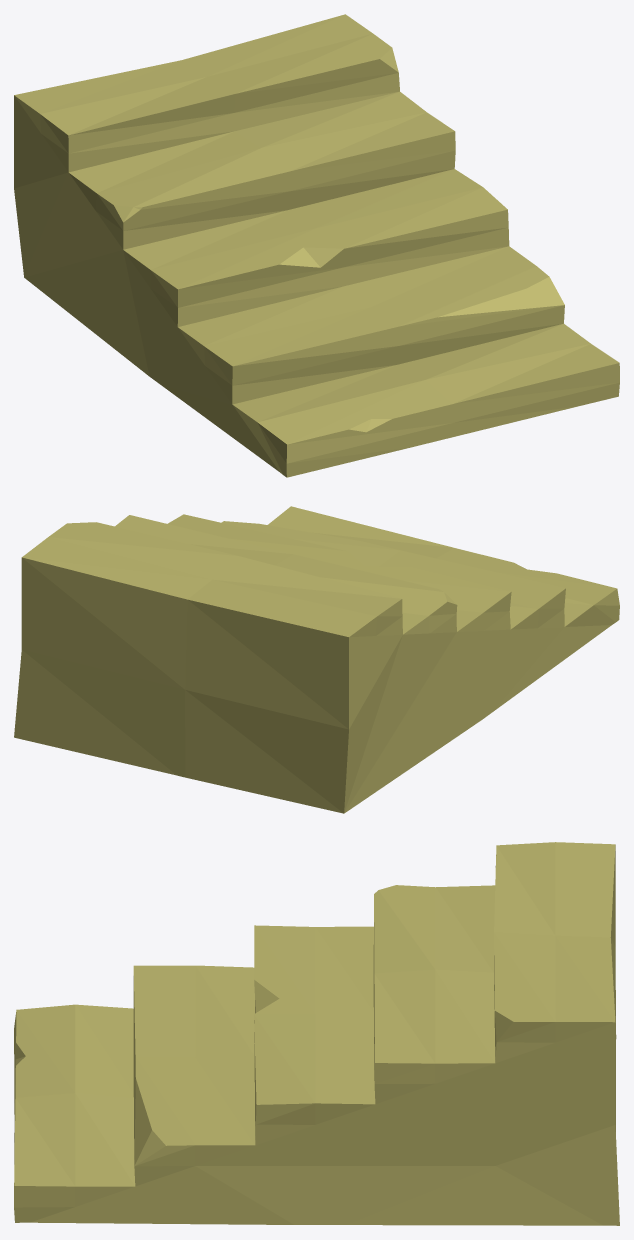
File: Prop_Jungle_Temple_Stairs_Stone_01.FBX
3 views of the same model, one above another, from view 1: azimuth 30°, elevation 25°; view 2: azimuth 150°, elevation 25°; view 3: azimuth 270°, elevation 25° (orthographic). The views are drawn at different scales.
Parts seen in each view (by area): view 1: Prop_Jungle_Temple_Stairs_Stone_01; view 2: Prop_Jungle_Temple_Stairs_Stone_01; view 3: Prop_Jungle_Temple_Stairs_Stone_01.
Part boxes in pixels (x1=…): Prop_Jungle_Temple_Stairs_Stone_01: x1=14, y1=14, x2=619, y2=477; Prop_Jungle_Temple_Stairs_Stone_01: x1=14, y1=506, x2=619, y2=813; Prop_Jungle_Temple_Stairs_Stone_01: x1=14, y1=842, x2=619, y2=1225.
Bounding box in the file's own units: 3049 × 1578 × 4288.
